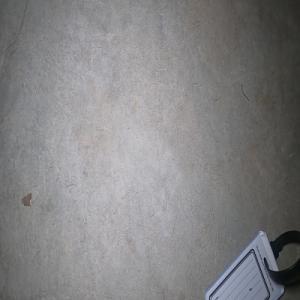LuggageTag: (202, 227, 300, 300)
